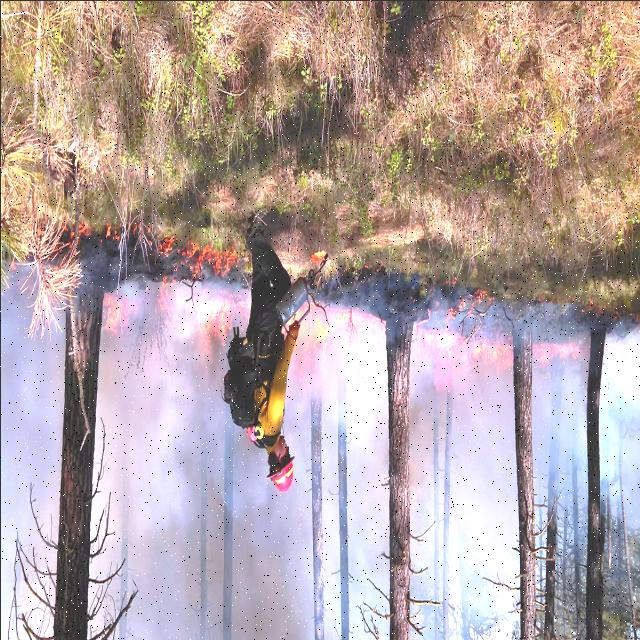api: (430, 332, 516, 394), (294, 303, 374, 364), (159, 233, 242, 285), (198, 290, 241, 341), (539, 342, 579, 368), (108, 296, 128, 331), (302, 247, 326, 265)
asap: (110, 340, 224, 576), (1, 282, 67, 596), (231, 480, 309, 637), (307, 367, 394, 495), (591, 333, 640, 463), (544, 359, 587, 470)
